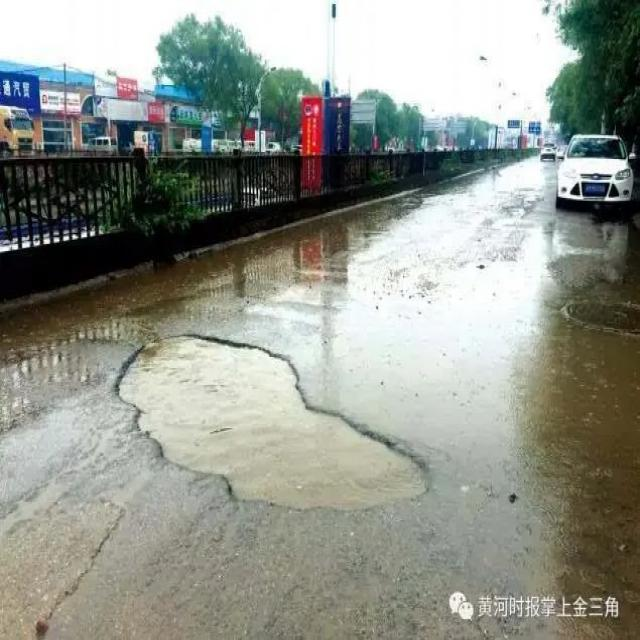Pothole: (114, 330, 441, 514)
